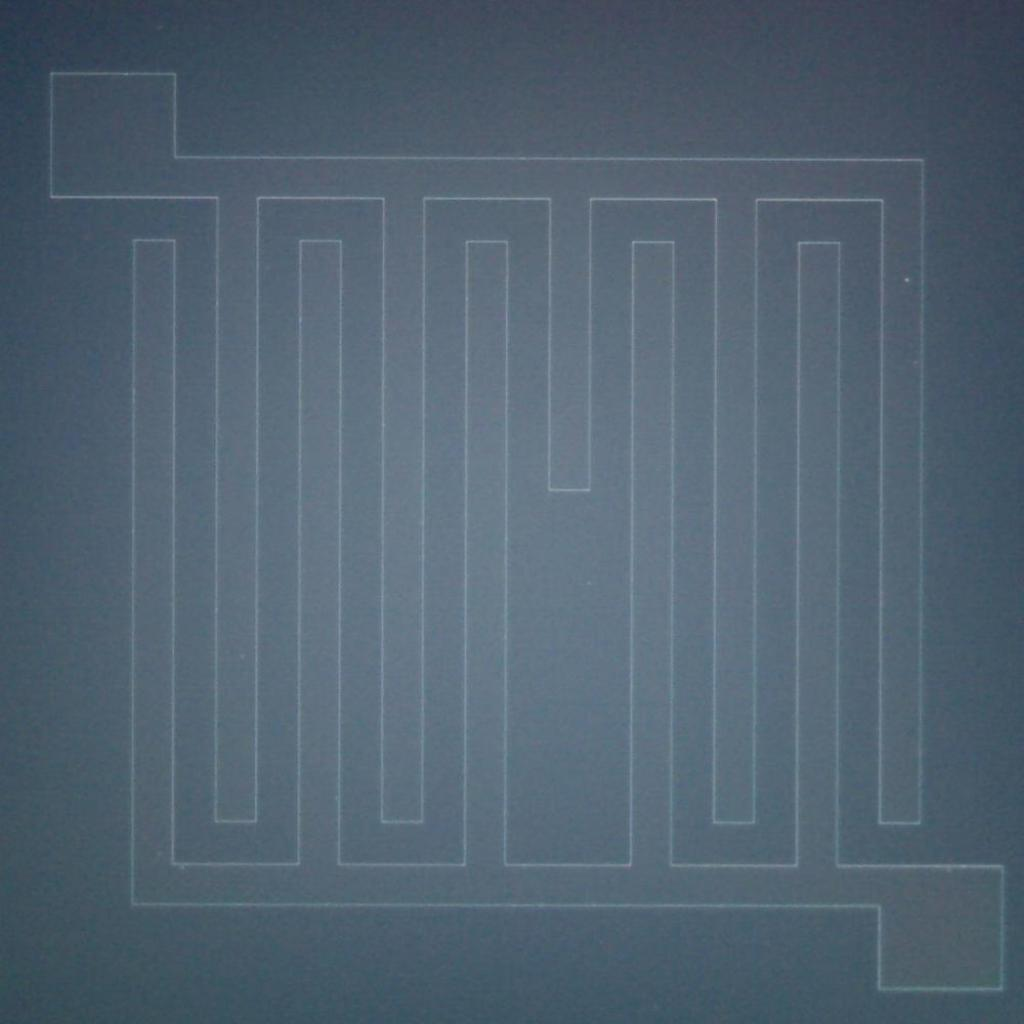dot: (904, 278, 910, 282)
